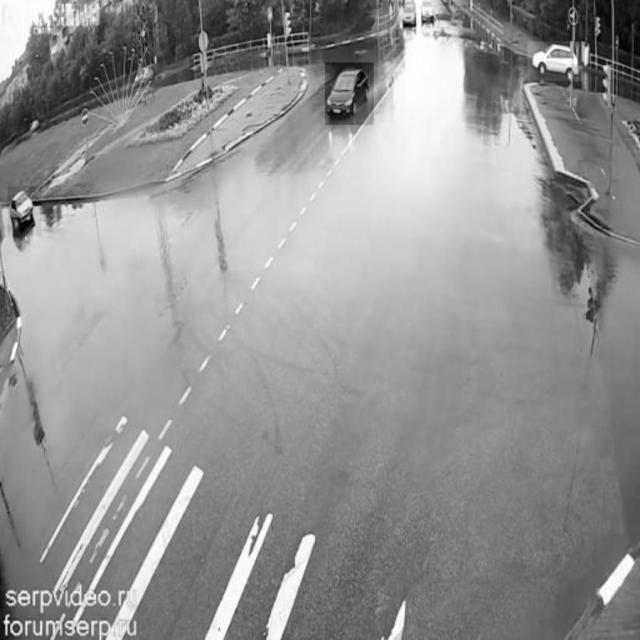vehicle: (325, 64, 373, 126), (527, 41, 583, 81), (7, 186, 41, 236), (403, 3, 417, 28)
